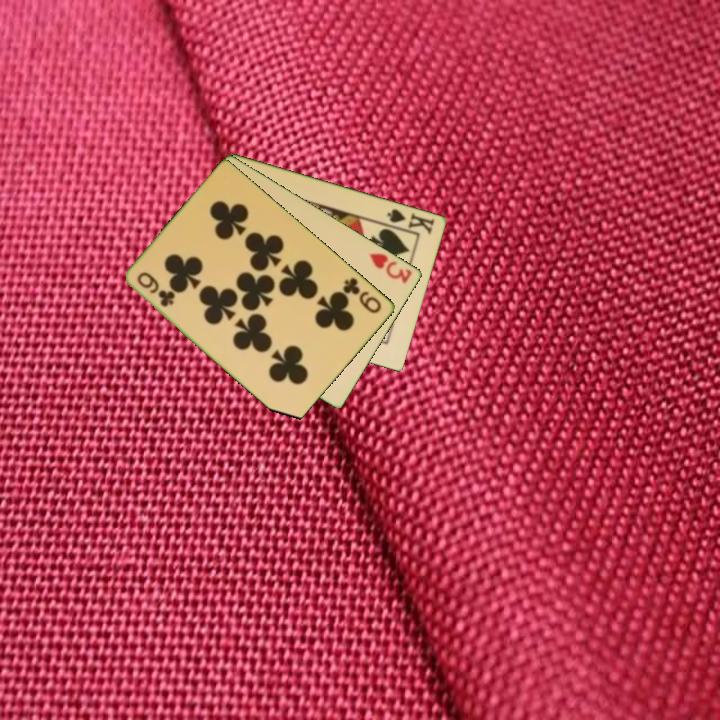3h: (365, 249, 415, 287)
9c: (340, 274, 385, 317), (134, 268, 178, 310)
Ks: (382, 205, 438, 237)
